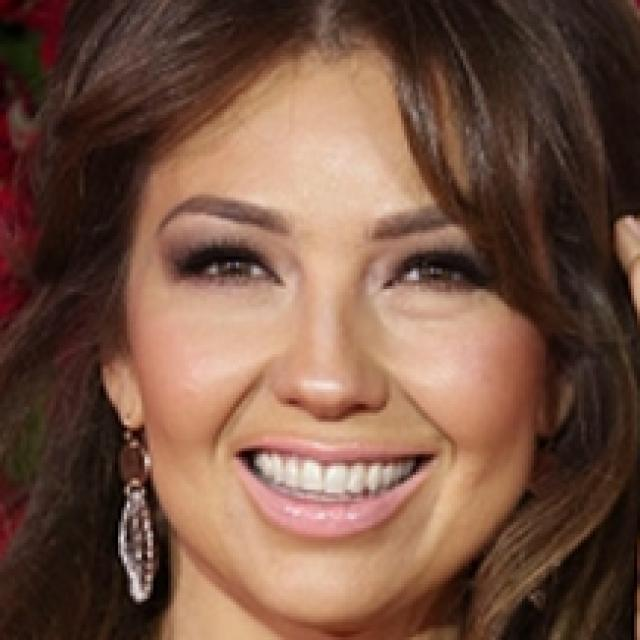Normal: (125, 48, 554, 629)
